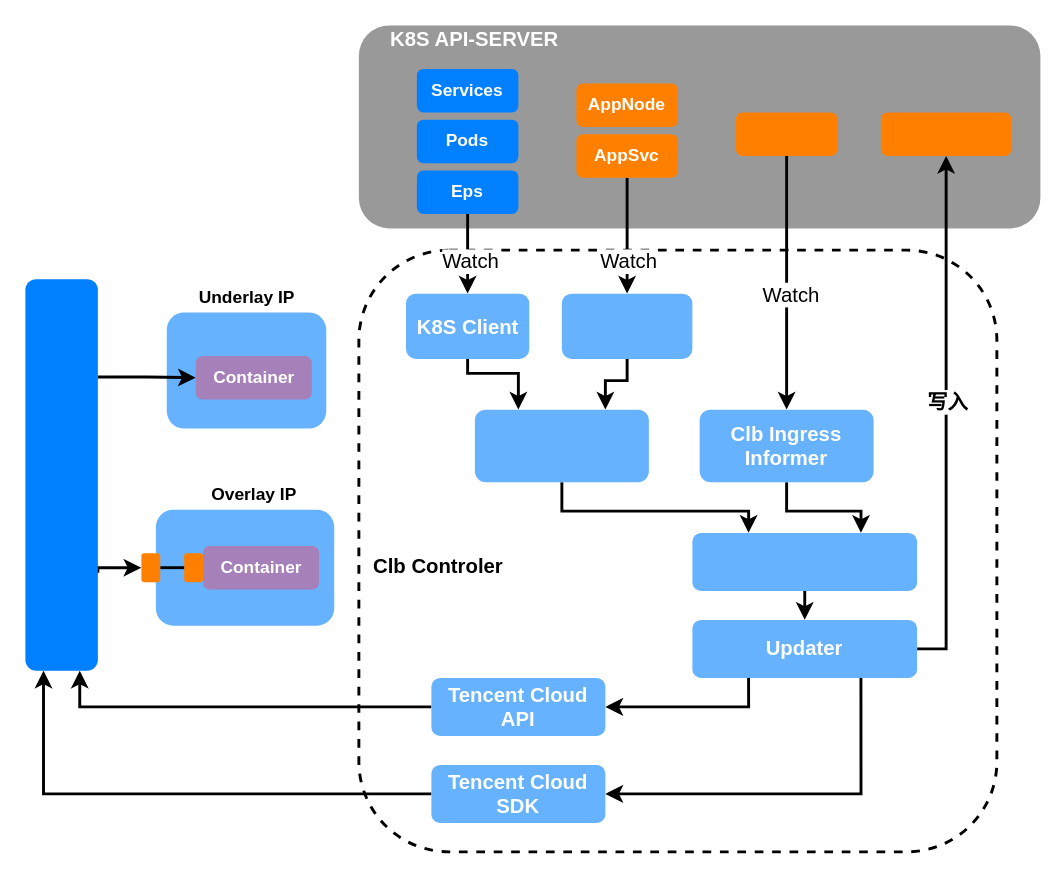
This 1064x877 diagram has some shape labels left out. Here are the shapes that lost their labels. From the top down, the box of each, then its label:
(735, 112, 837, 155): ClbIngress
(880, 112, 1011, 155): CLoudListener
(561, 293, 692, 358): Custom Client
(474, 409, 648, 481): Service Discovery
(25, 278, 97, 670): CLB
(692, 532, 916, 590): Processor
